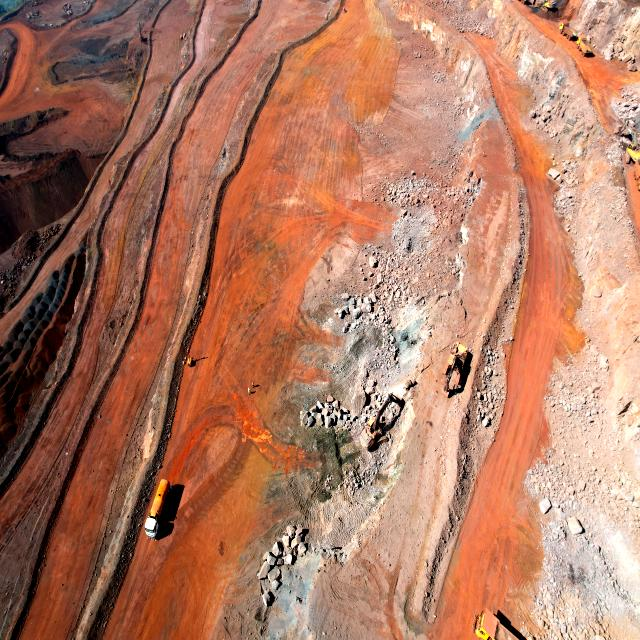Blast rig: (138, 22, 144, 42)
Dumper truck: (476, 613, 528, 640), (576, 36, 594, 53), (559, 22, 576, 38)
Excavator: (359, 392, 407, 449), (446, 344, 469, 394), (613, 120, 640, 158), (542, 0, 562, 11)
person: (248, 387, 251, 394), (252, 381, 255, 388)
